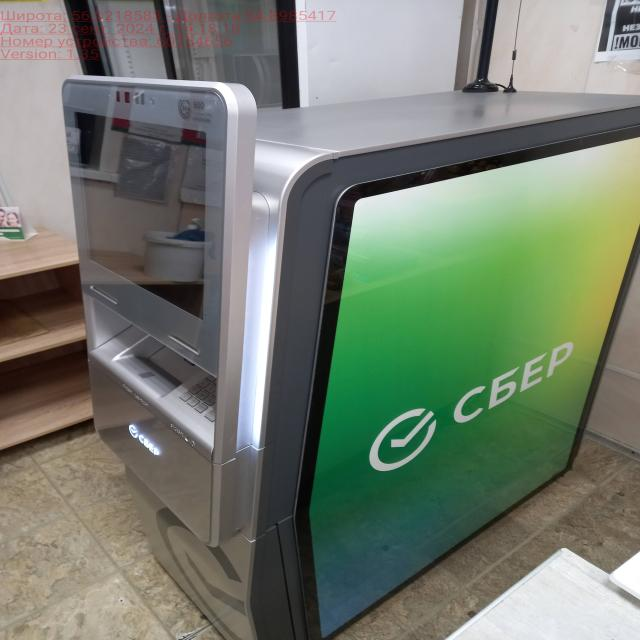bank: (59, 77, 640, 640)
